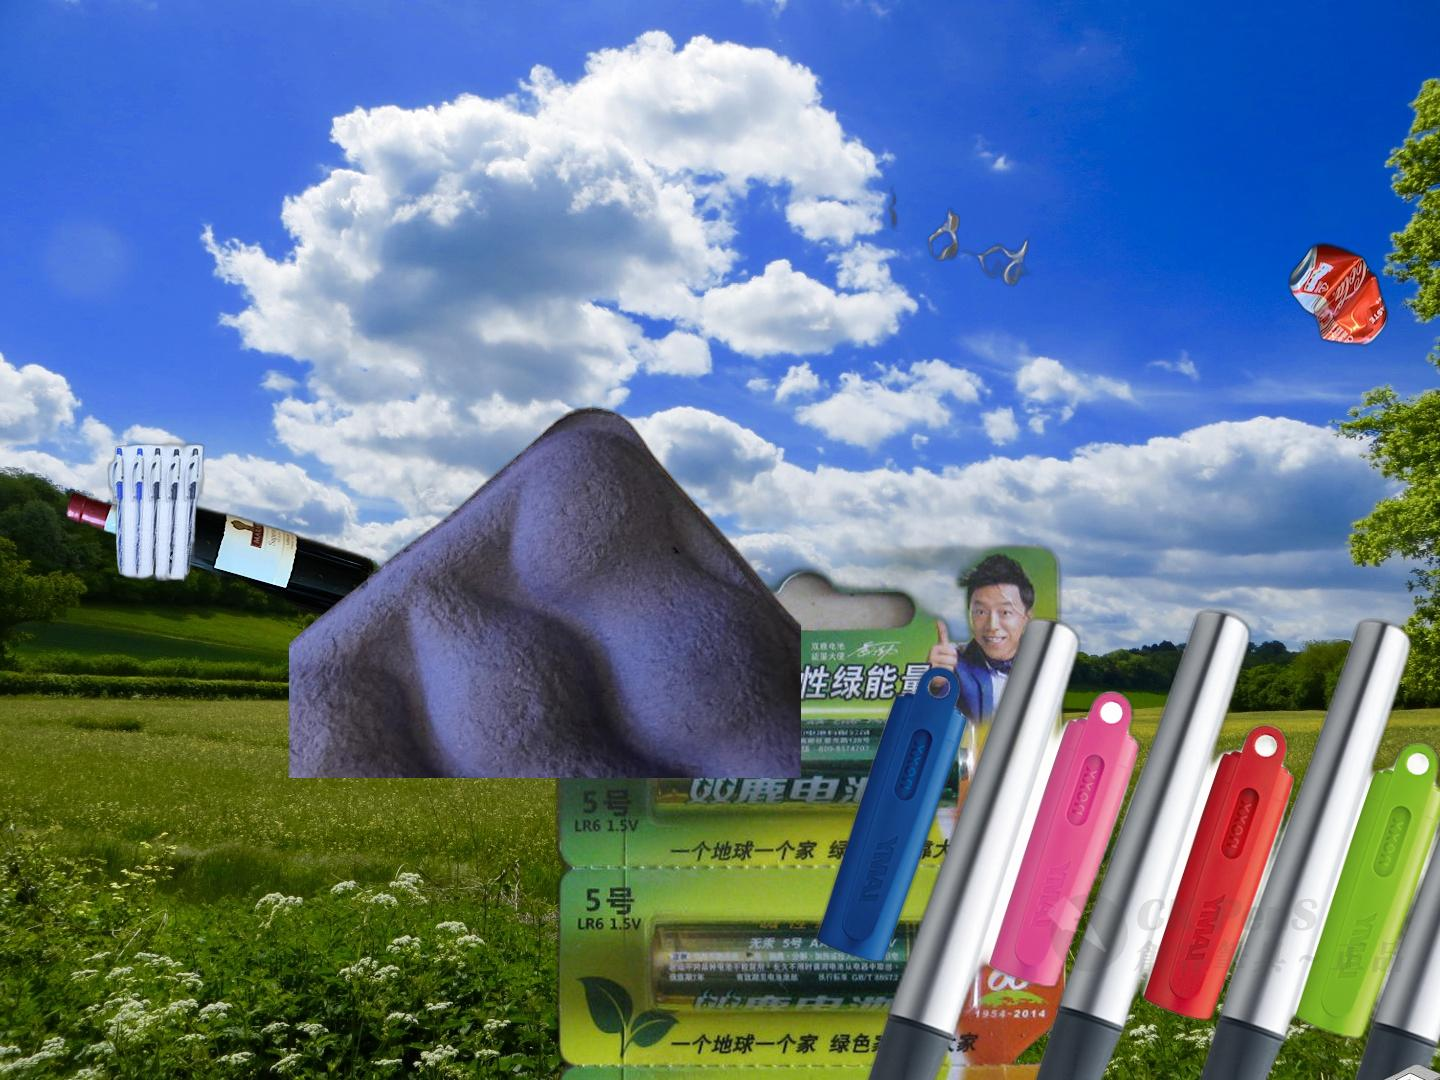battery: (550, 528, 1077, 1080), (1280, 1061, 1440, 1080)
glass: (61, 487, 380, 628)
metal-cans: (1285, 238, 1392, 352)
paper: (289, 406, 801, 778), (874, 182, 1037, 288)
penholder: (811, 604, 1440, 1080), (105, 438, 234, 588)
